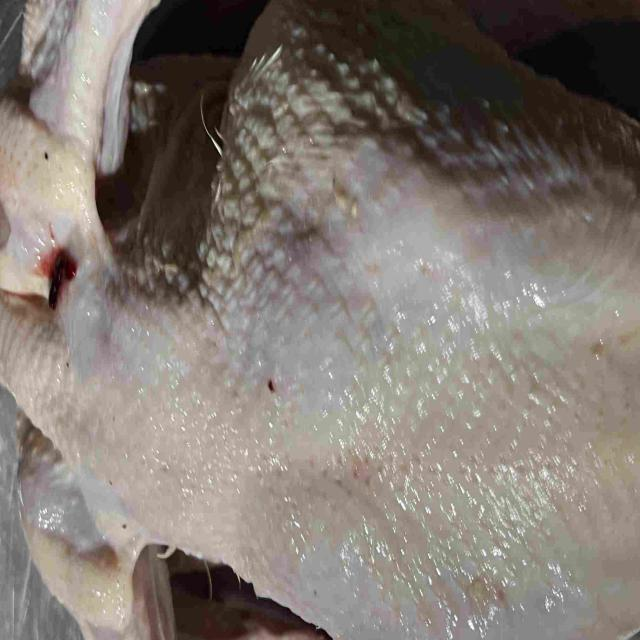back: (112, 93, 640, 563)
leg: (245, 0, 640, 120), (381, 550, 640, 640)
neck: (0, 265, 74, 442)
wing: (10, 448, 325, 640), (0, 0, 163, 207)
